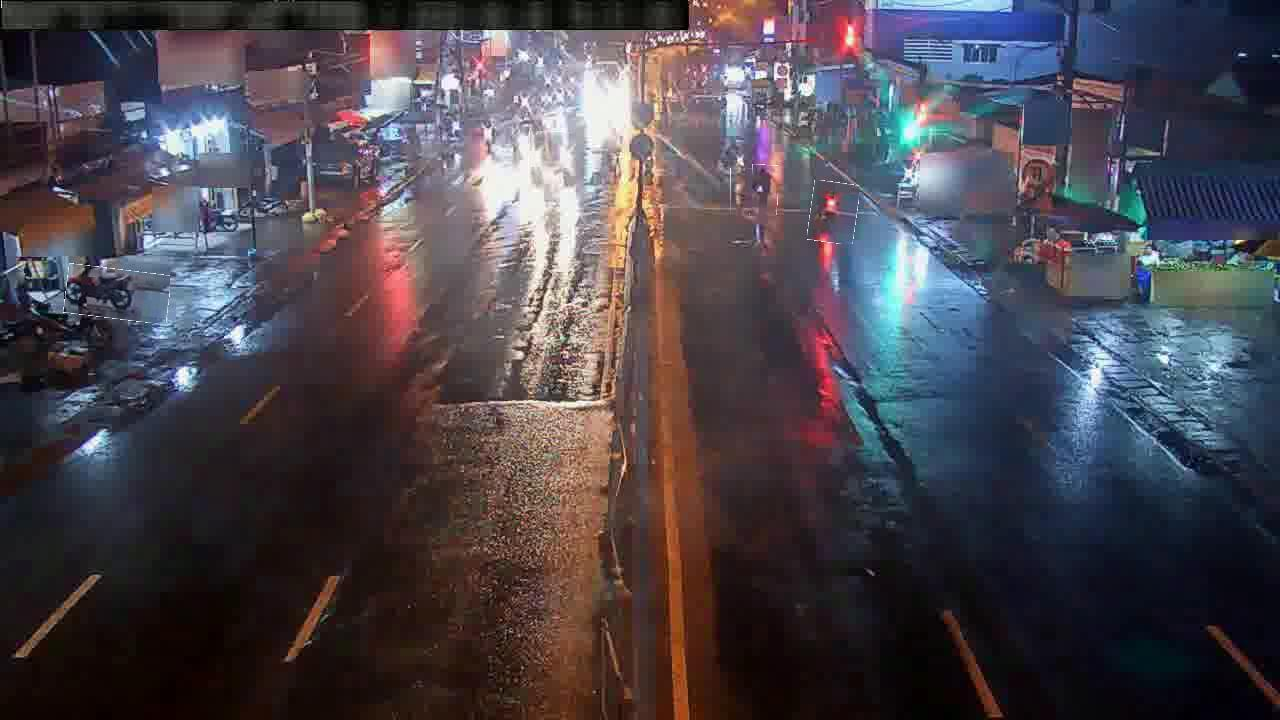container: (529, 132, 574, 180)
motorbike: (65, 266, 170, 321), (809, 182, 859, 244), (750, 165, 779, 216), (730, 168, 753, 214)
